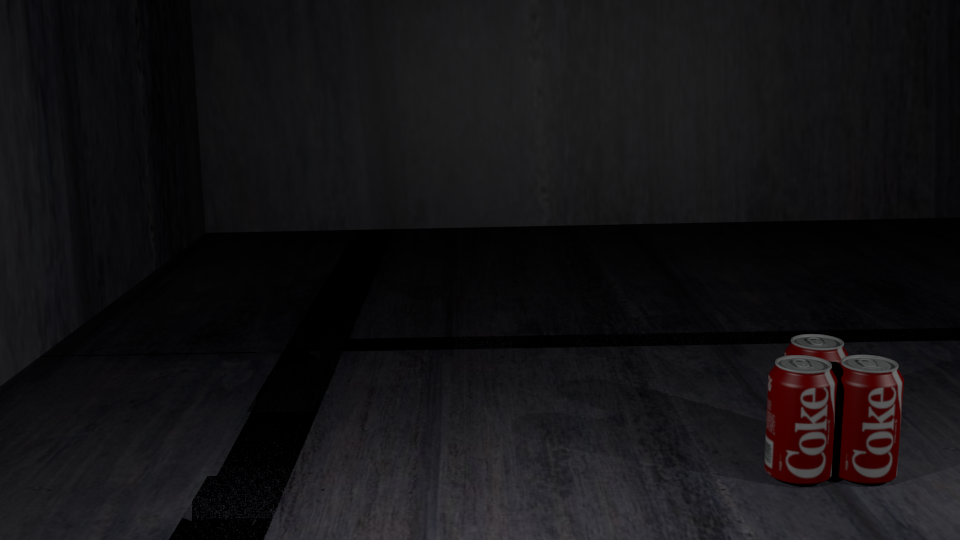cola_can: (833, 355, 903, 479), (767, 355, 836, 480), (786, 334, 848, 452)
